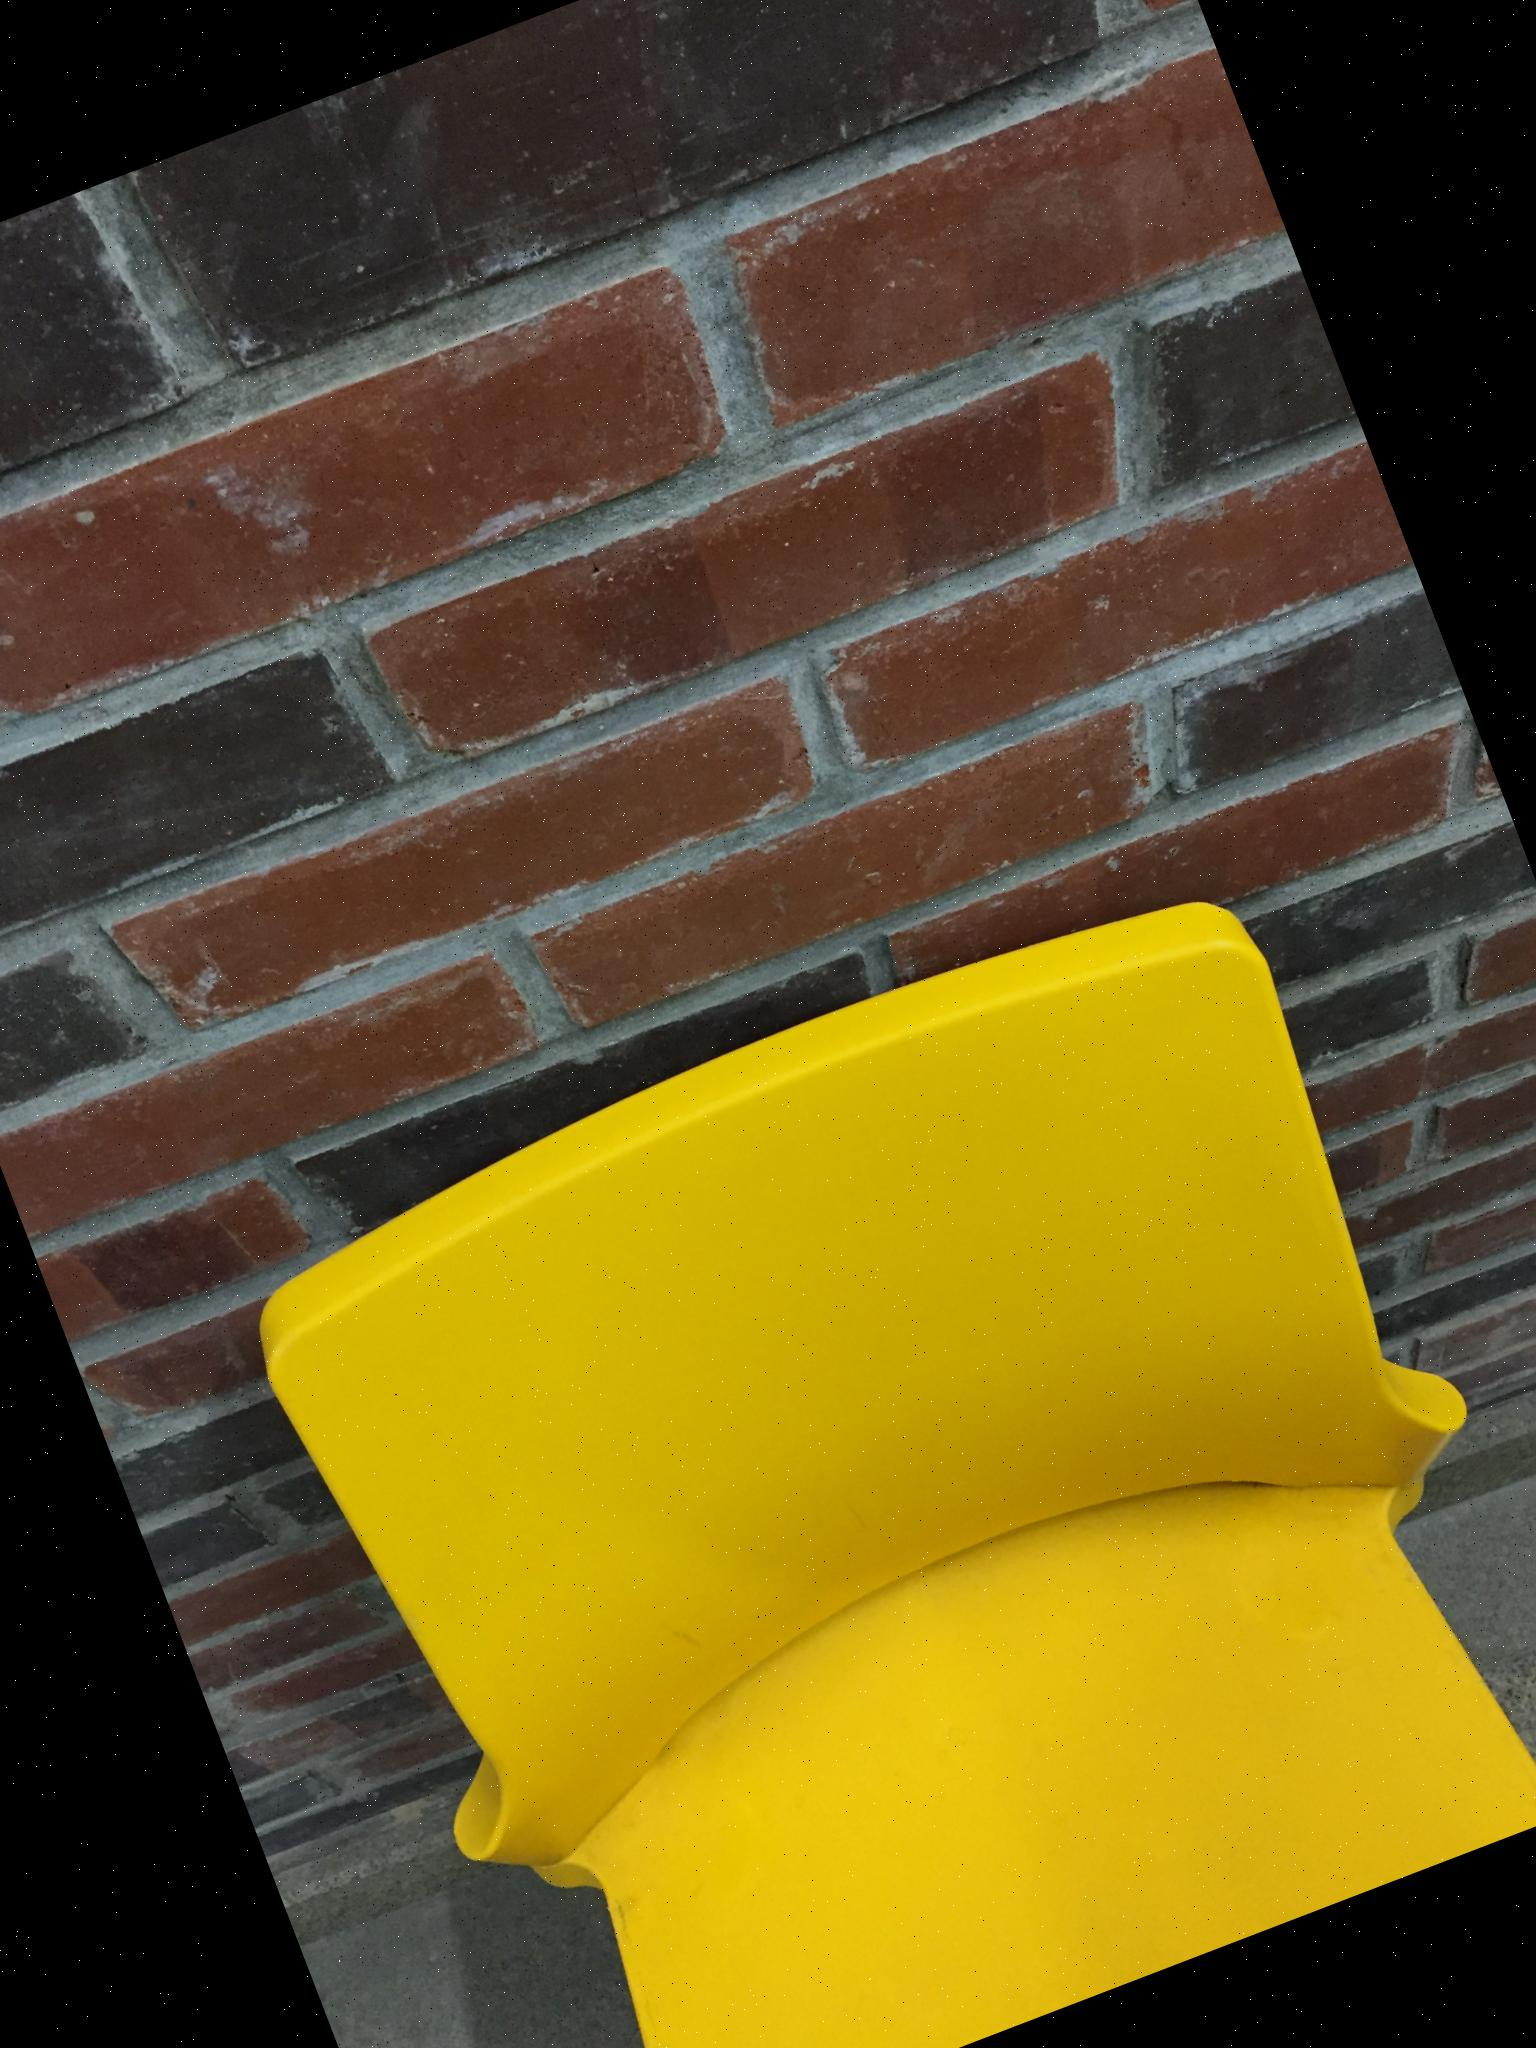chair: (215, 845, 1536, 2048)
